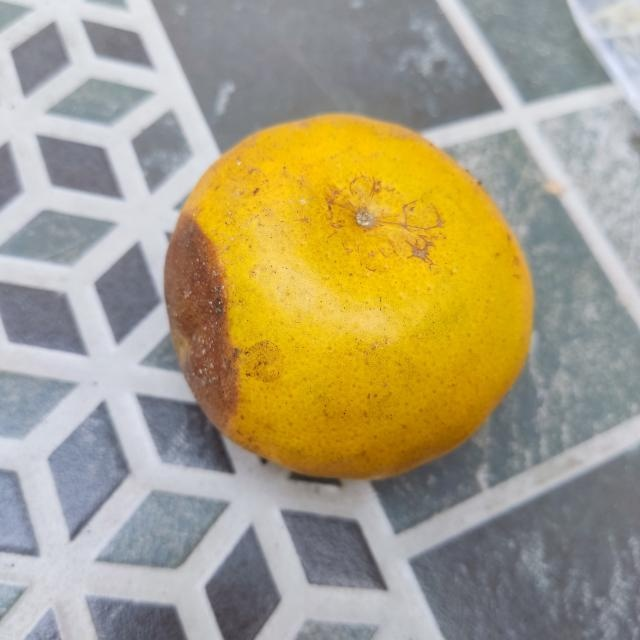agrume: (162, 112, 532, 480)
